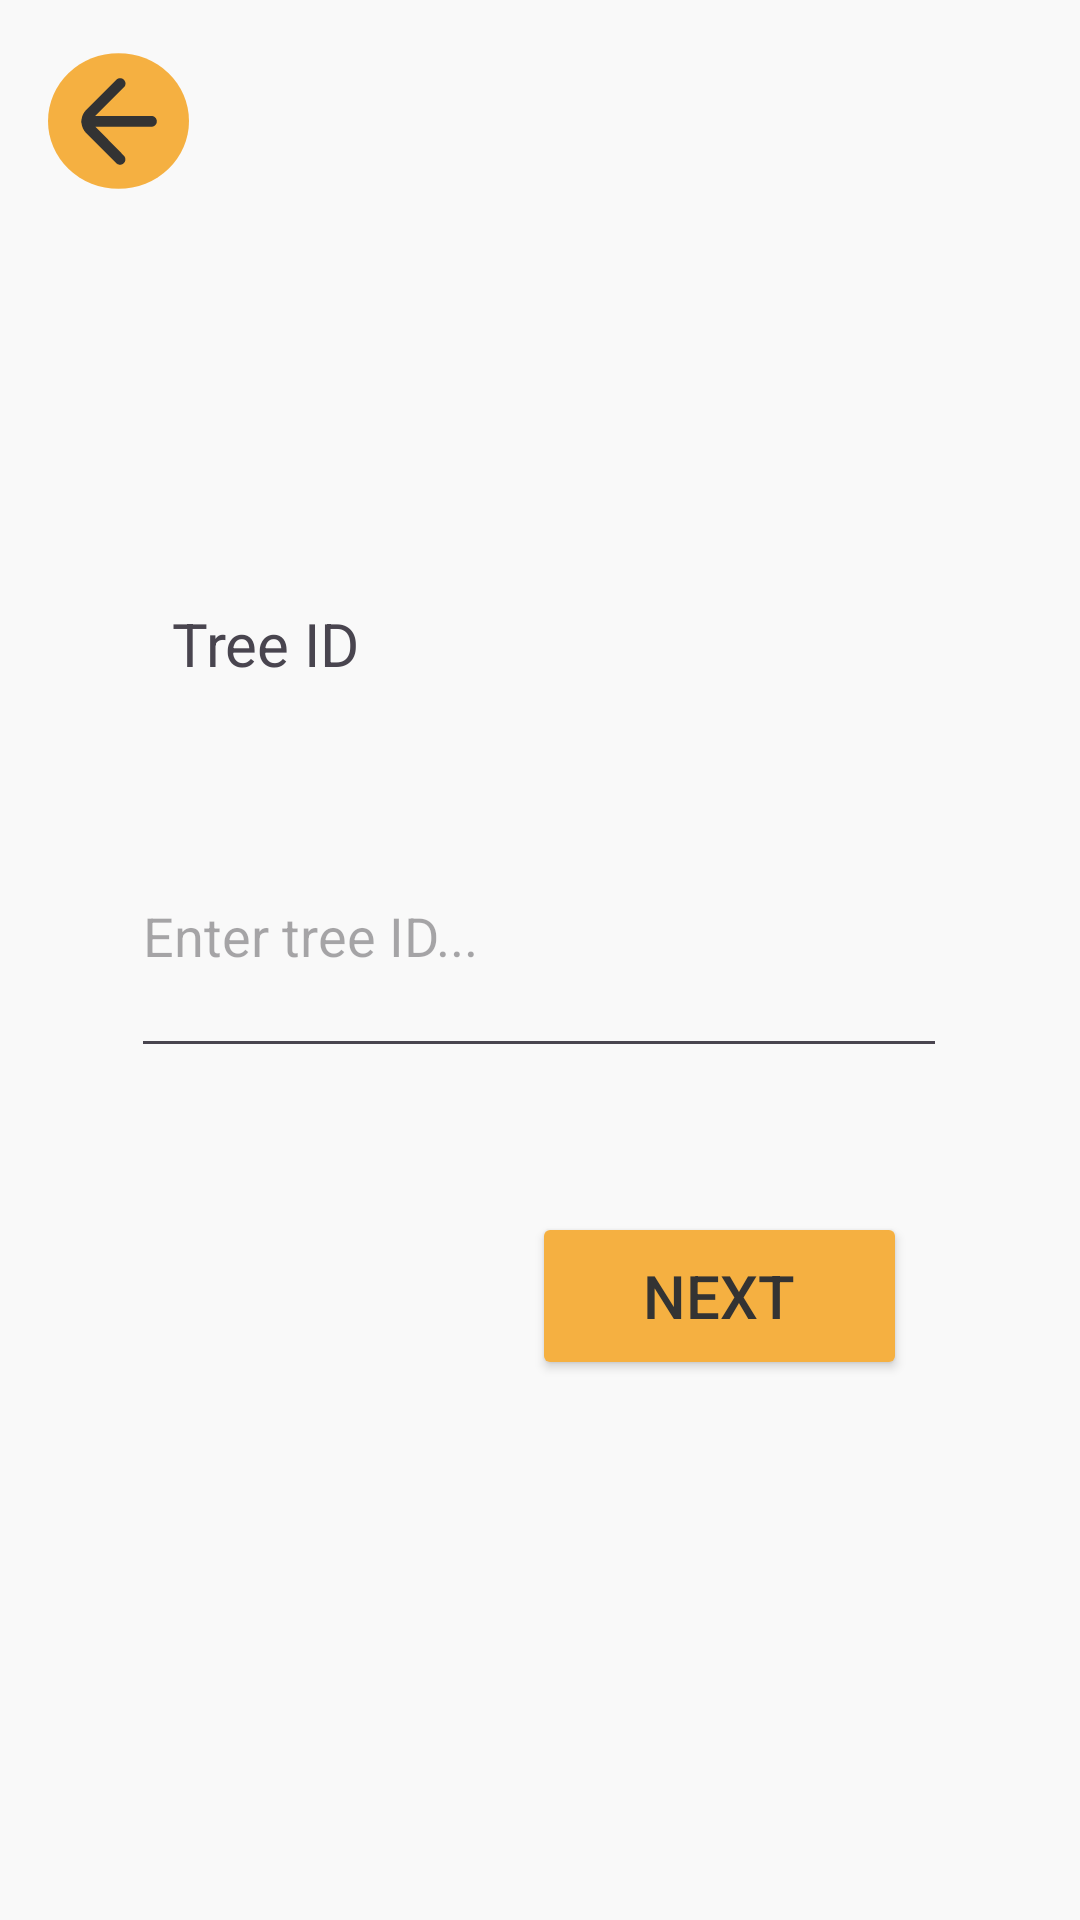

Where to tap for icons on this 1080*1920 app screen, as (x=x, y=y):
back arrow: (x=118, y=121)
